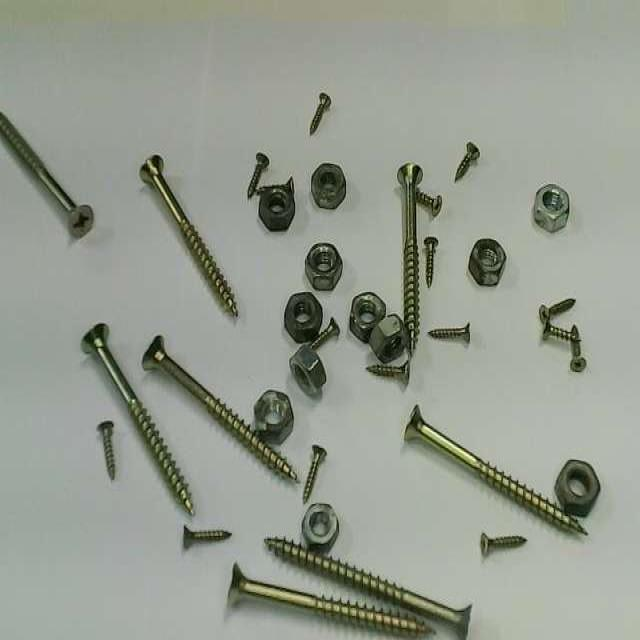Parafuso: (406, 405, 586, 533), (143, 336, 297, 480), (83, 323, 193, 513), (265, 537, 470, 637), (140, 157, 236, 316), (228, 563, 432, 635), (0, 112, 92, 236), (398, 163, 422, 353), (303, 445, 326, 503), (366, 359, 409, 384), (184, 525, 230, 547), (247, 153, 269, 197), (455, 141, 479, 180), (481, 535, 526, 555), (98, 421, 113, 479), (539, 299, 575, 323), (309, 93, 330, 133), (570, 325, 586, 371), (543, 320, 578, 341), (314, 317, 338, 347), (429, 323, 469, 340), (417, 189, 441, 216), (425, 237, 437, 287), (284, 176, 294, 193), (259, 185, 277, 192)
Porca: (555, 460, 599, 515), (255, 389, 293, 444), (259, 177, 294, 229), (285, 293, 321, 341), (350, 292, 385, 341), (468, 239, 505, 285), (370, 315, 407, 361), (302, 504, 338, 551), (533, 184, 569, 231), (305, 243, 342, 288), (290, 345, 325, 392), (311, 163, 345, 208)
